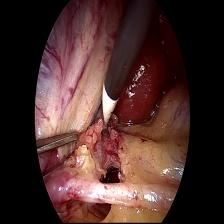Grasper: (37, 129, 85, 181)
Hook: (99, 83, 119, 137)
